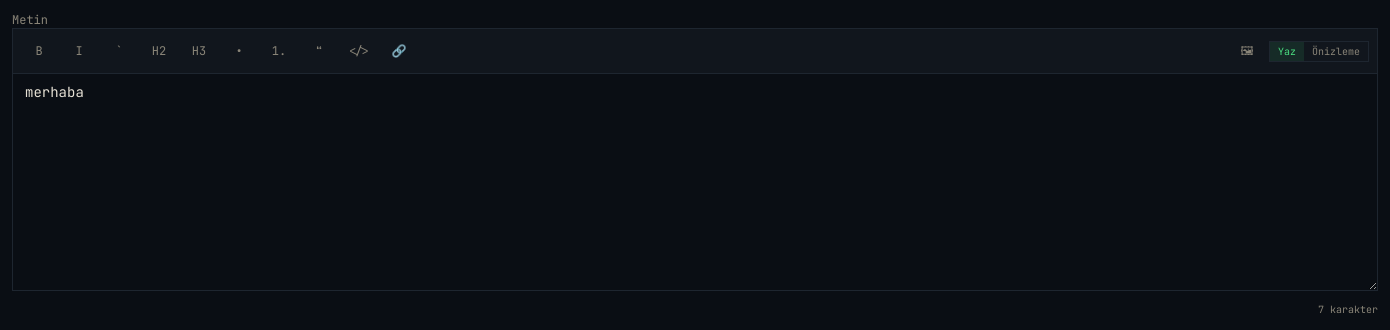
Test: preview tab renders markdown
This screenshot has width=1390, height=330.
Click the tab "Önizleme" at (1336, 51), box [1304, 42, 1368, 60]
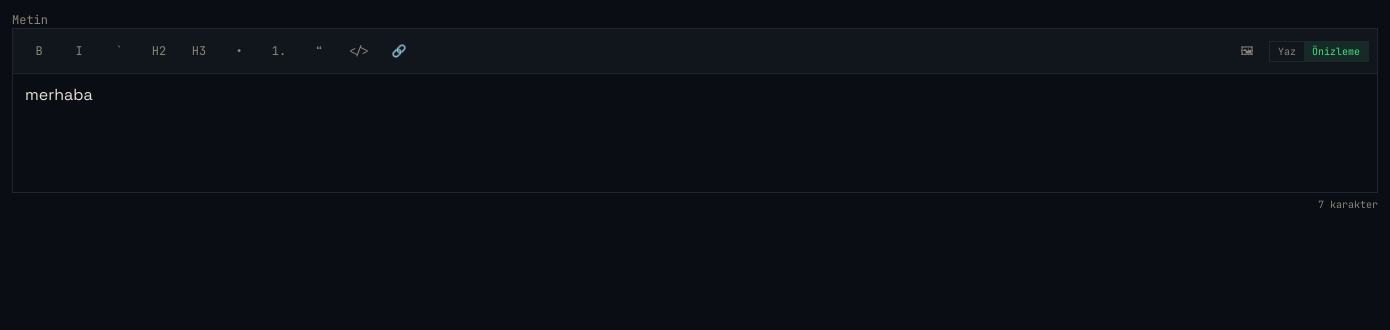
Expected: the element with test id "md-preview" is shown, [12, 73, 1378, 193]
Expected: the element with test id "md-preview" reads "merhaba", [25, 84, 93, 105]
